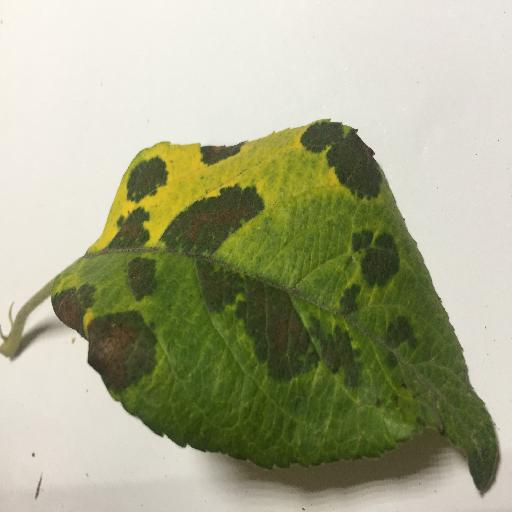Brown_Spot: (238, 288, 313, 372), (168, 199, 255, 241), (87, 326, 150, 378), (334, 141, 380, 195), (319, 340, 362, 380), (357, 239, 398, 277), (199, 270, 237, 309), (51, 297, 90, 331), (378, 318, 412, 347), (308, 128, 344, 153), (127, 168, 166, 191), (129, 266, 151, 298), (334, 289, 362, 313), (118, 221, 143, 244), (203, 151, 239, 160)
